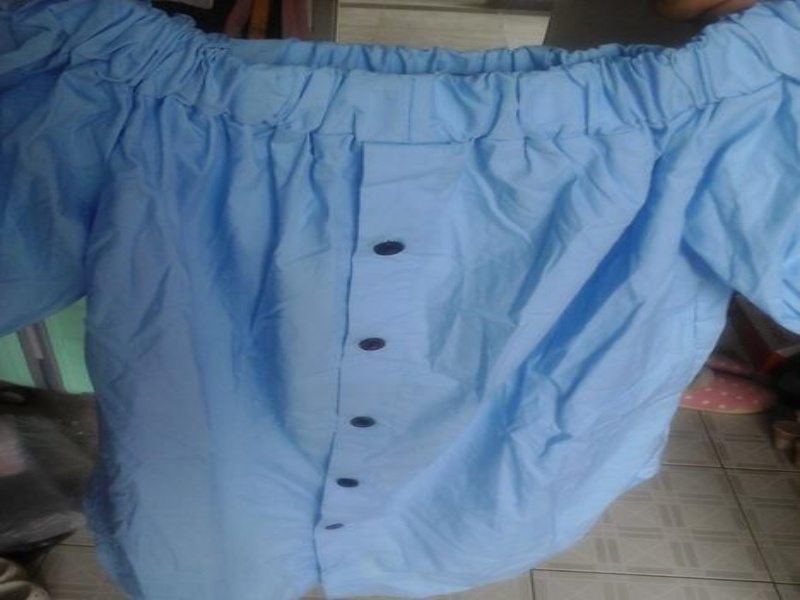long_sleeved_dress: (10, 6, 797, 599)
